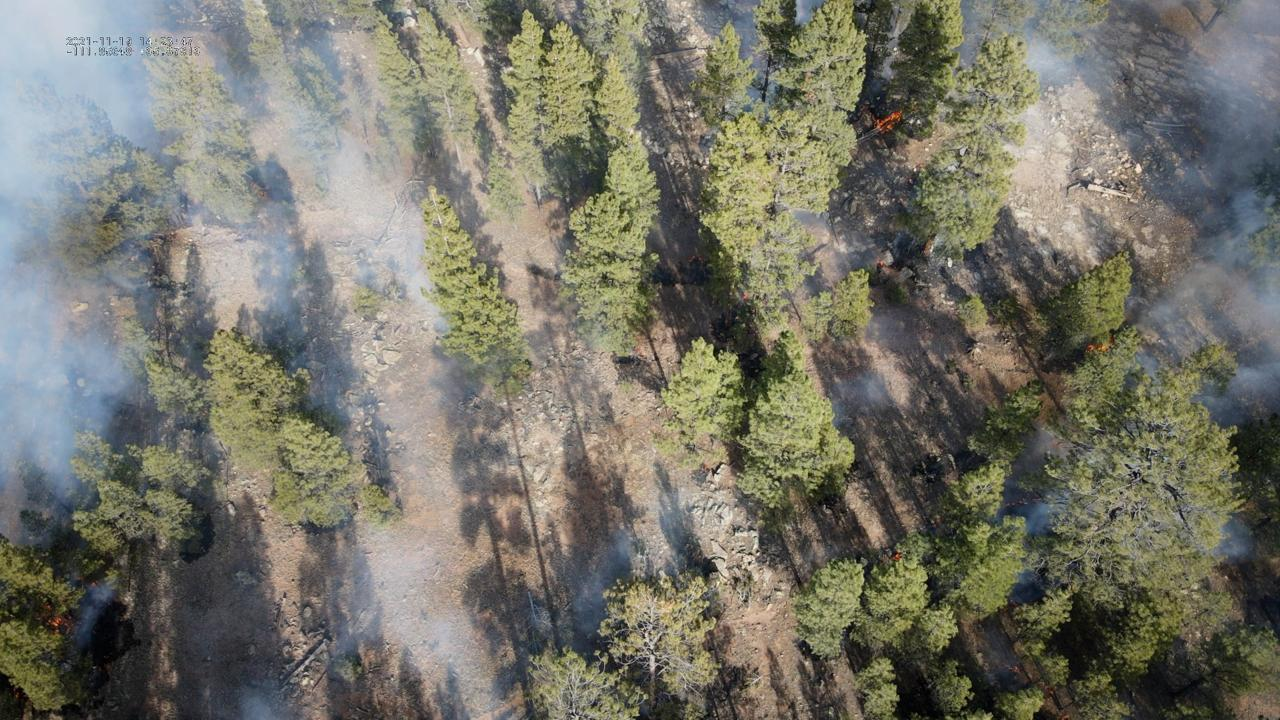fire: (36, 596, 69, 640), (870, 109, 905, 139), (1082, 330, 1117, 358), (873, 258, 888, 272), (684, 255, 707, 264), (892, 551, 904, 565), (741, 290, 751, 304), (1008, 664, 1020, 674)
smoke: (0, 0, 460, 555), (1007, 190, 1280, 609), (939, 0, 1280, 190), (331, 529, 520, 720), (572, 484, 699, 668), (729, 0, 826, 135), (749, 212, 885, 302), (864, 7, 906, 112), (821, 369, 889, 433), (68, 578, 114, 661), (977, 628, 1024, 691), (240, 687, 278, 720)
